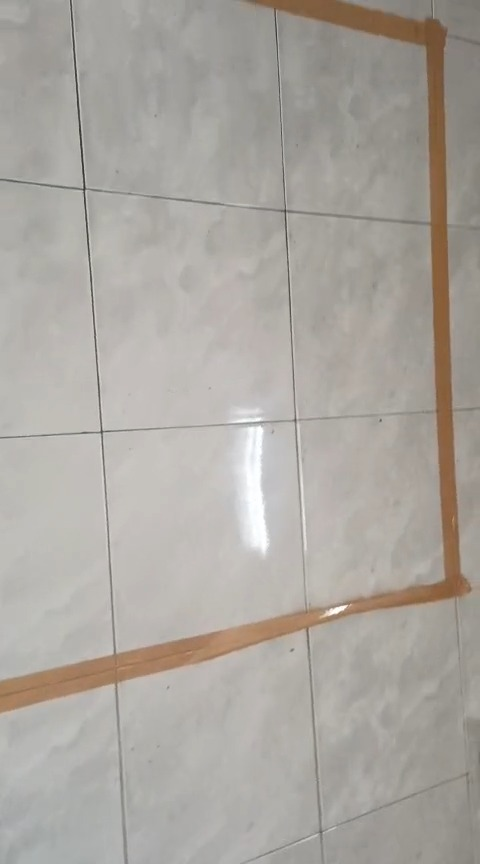floor marking: (0, 0, 470, 712)
